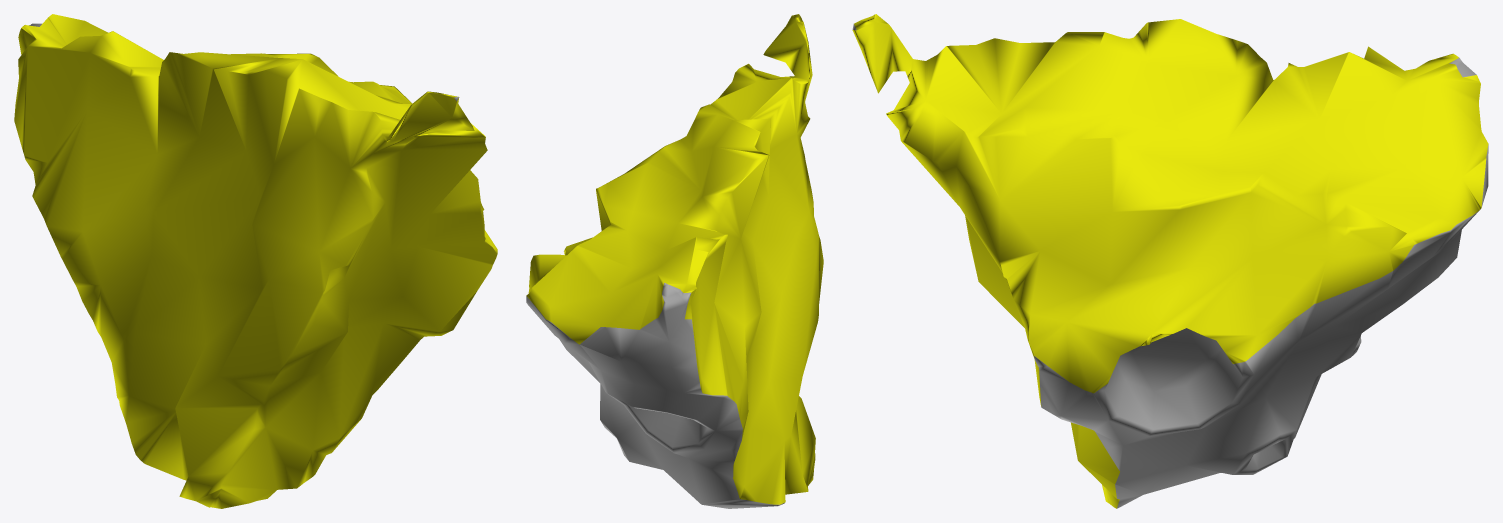
The model's file is Asteroid_01_shard_05.fbx.
3 renders of one model, left to right at view 1: azimuth 30°, elevation 25°; view 2: azimuth 150°, elevation 25°; view 3: azimuth 270°, elevation 25°, orthographic. The views are drawn at different scales.
Parts seen in each view (by area): view 1: Asteroid_01_shard_05; view 2: Asteroid_01_shard_05; view 3: Asteroid_01_shard_05.
Boxes of the visible parts, bbox=[...] form: Asteroid_01_shard_05: bbox=[14, 14, 497, 508]; Asteroid_01_shard_05: bbox=[526, 14, 823, 508]; Asteroid_01_shard_05: bbox=[852, 14, 1488, 508].
Bounding box in the file's own units: 464 × 660 × 757.
